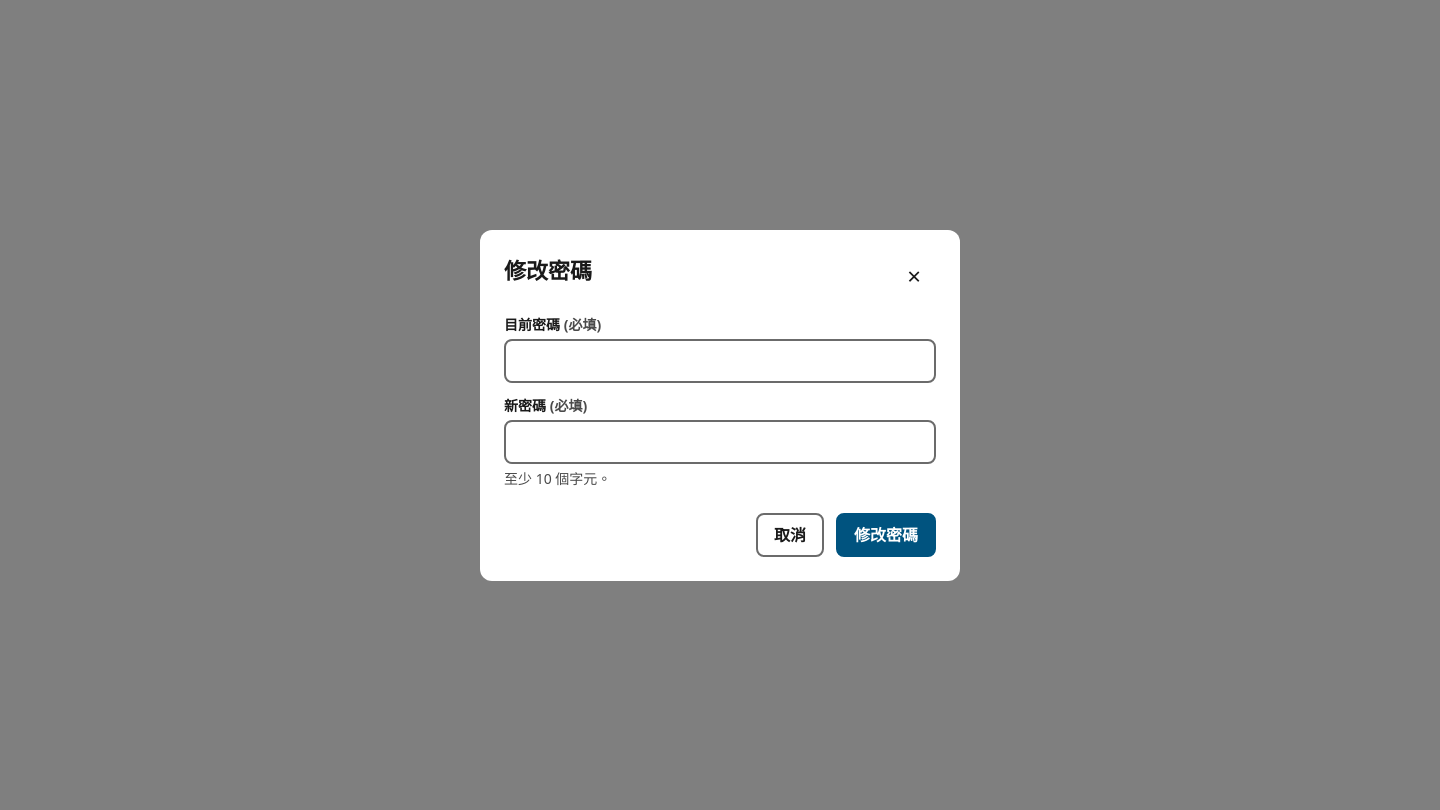
it: ChangePasswordDialog › submits current + new password and shows a success message
In the password field labelled "目前密碼 (必填)": (720, 360) [504, 338, 936, 382], type "oldpassword"
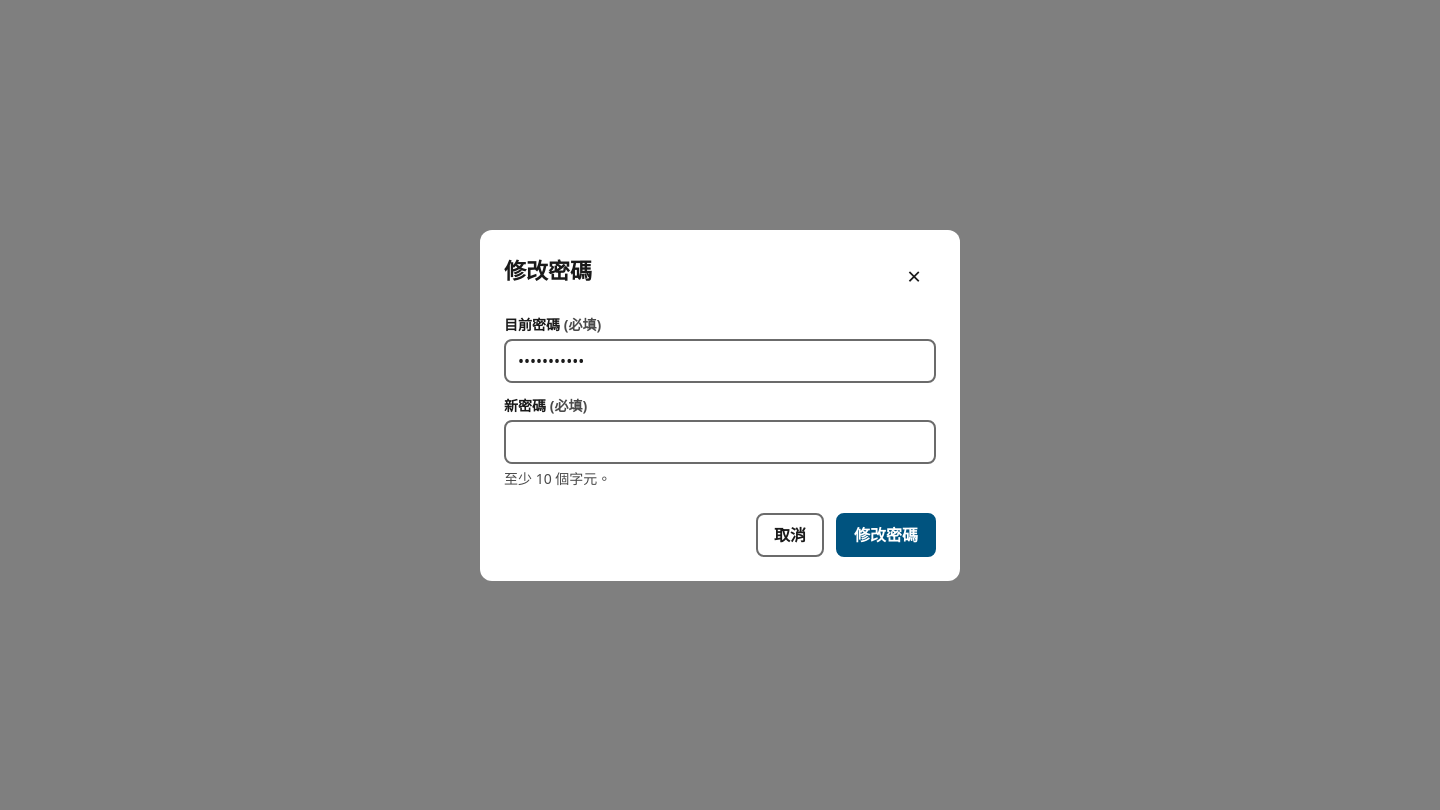
In the password field labelled "新密碼 (必填)": (720, 442) [504, 420, 936, 464], type "brandnewpassword"
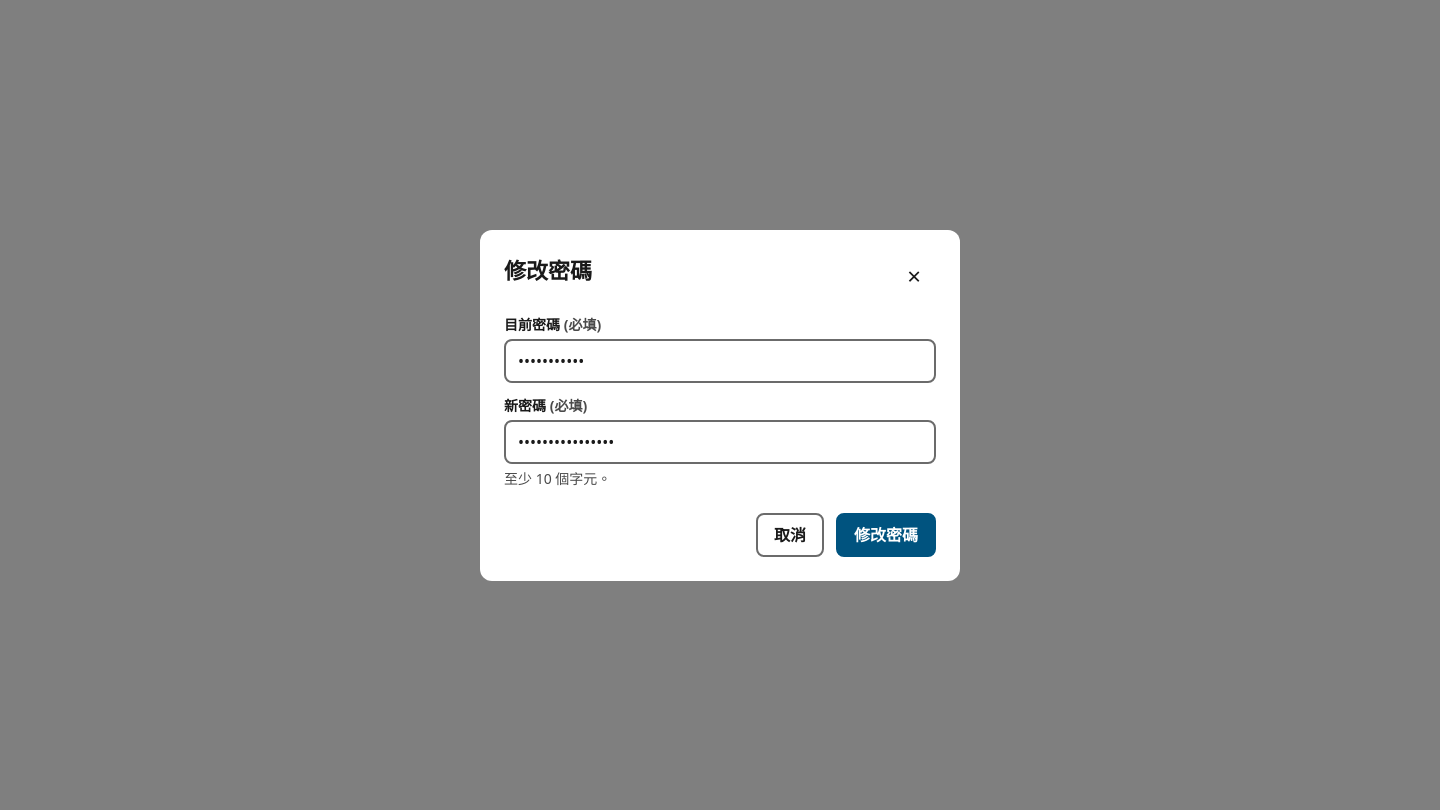
Submit the form, box [504, 314, 936, 488]
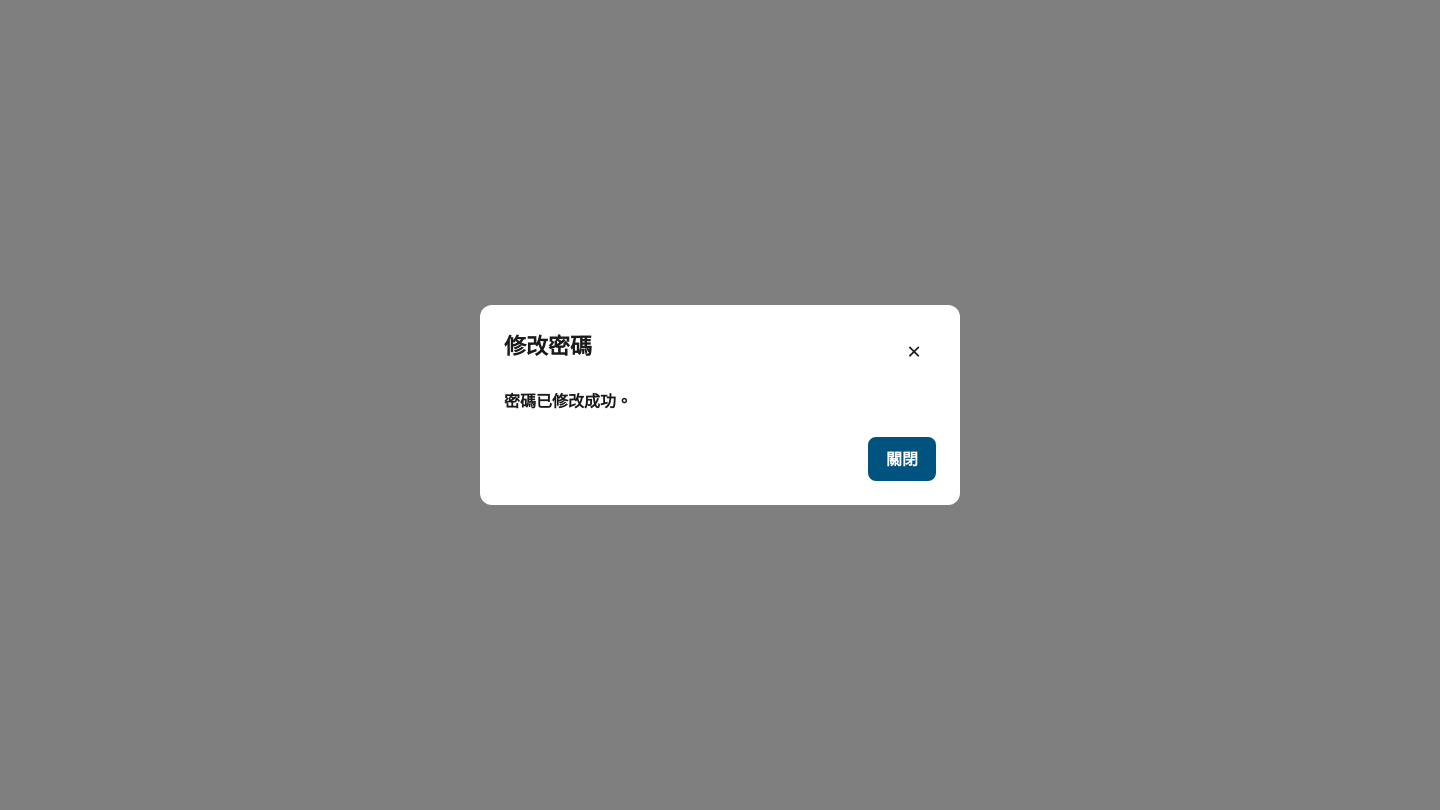
Check: the text "密碼已修改成功" is shown, box [504, 390, 632, 412]
